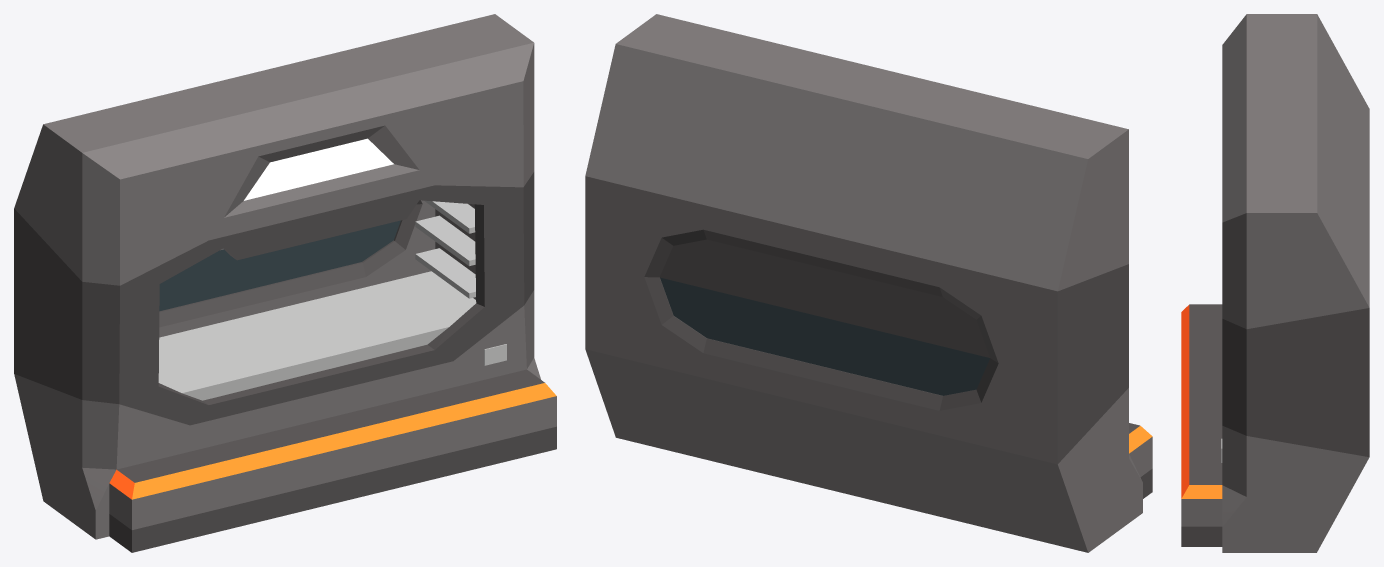
Rendered from scifi_scifi-capsule-empty-corridor.fbx.
3 views of the same model, side by side, from view 1: azimuth 30°, elevation 25°; view 2: azimuth 150°, elevation 25°; view 3: azimuth 270°, elevation 25° (orthographic). The views are drawn at different scales.
Visible parts, largest first — view 1: scifi_scifi_capsule_empty_corridor; view 2: scifi_scifi_capsule_empty_corridor; view 3: scifi_scifi_capsule_empty_corridor.
Boxes of the visible parts, bbox=[...] form: scifi_scifi_capsule_empty_corridor: bbox=[14, 14, 556, 552]; scifi_scifi_capsule_empty_corridor: bbox=[585, 14, 1152, 552]; scifi_scifi_capsule_empty_corridor: bbox=[1181, 14, 1369, 552].
Bounding box in the file's own units: 200 × 159 × 79.95.
